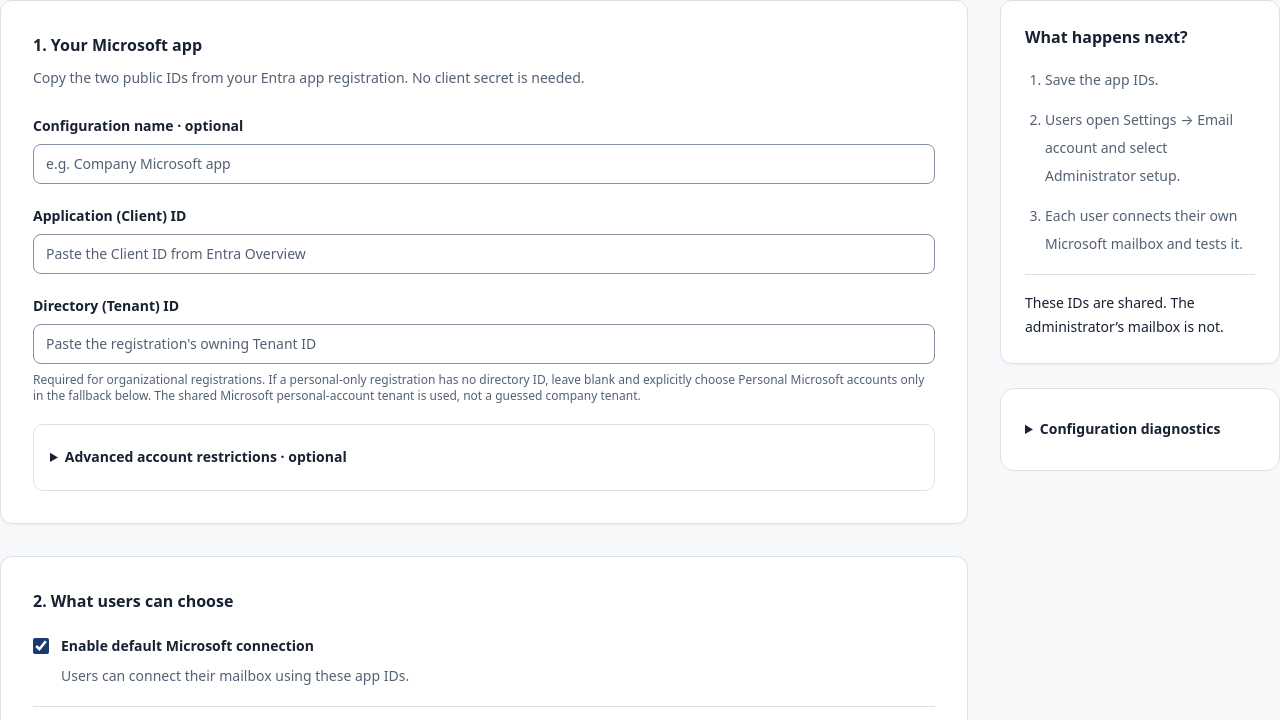
Test: user Microsoft configuration choices › lets the administrator save IDs with default enabled and no account-type override
Step 1. Type "22222222-2222-4222-8222-222222222222" into the field labelled "Application (Client) ID" → (484, 254), box [33,234,935,274]
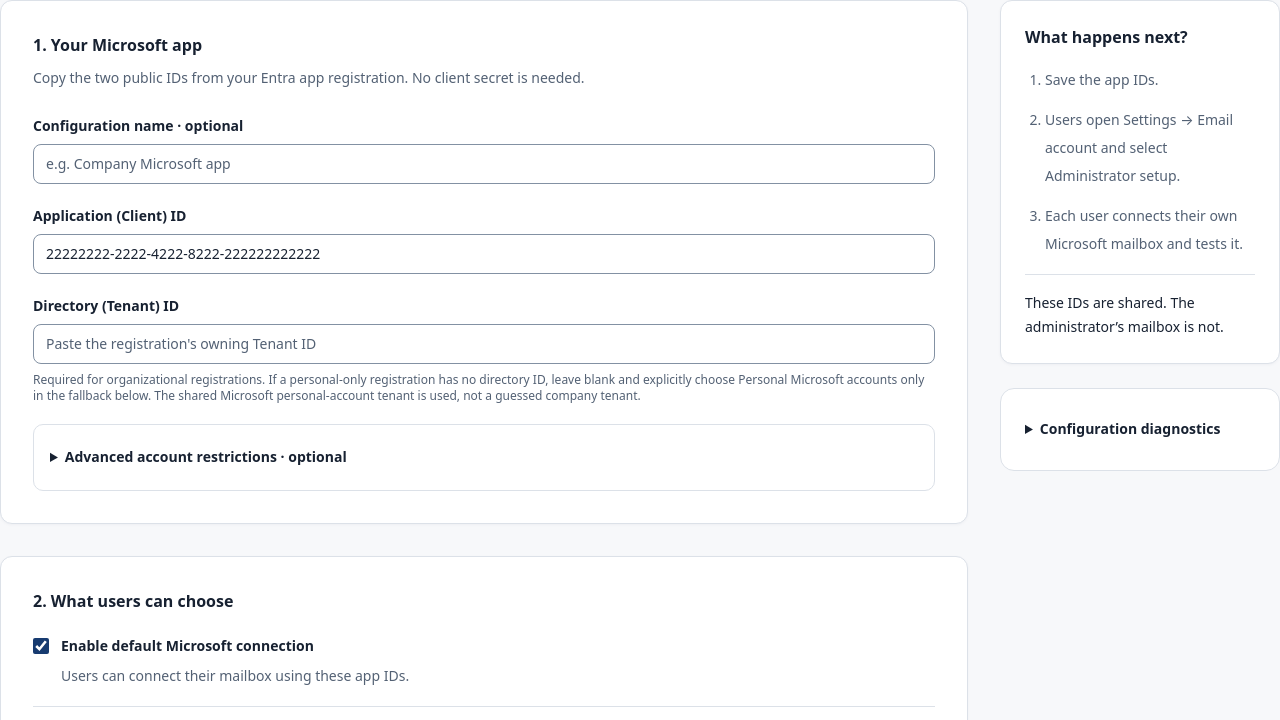
Step 2. Type "33333333-3333-4333-8333-333333333333" into the field labelled "Directory (Tenant) ID" → (484, 344), box [33,324,935,364]
(page scrolled)
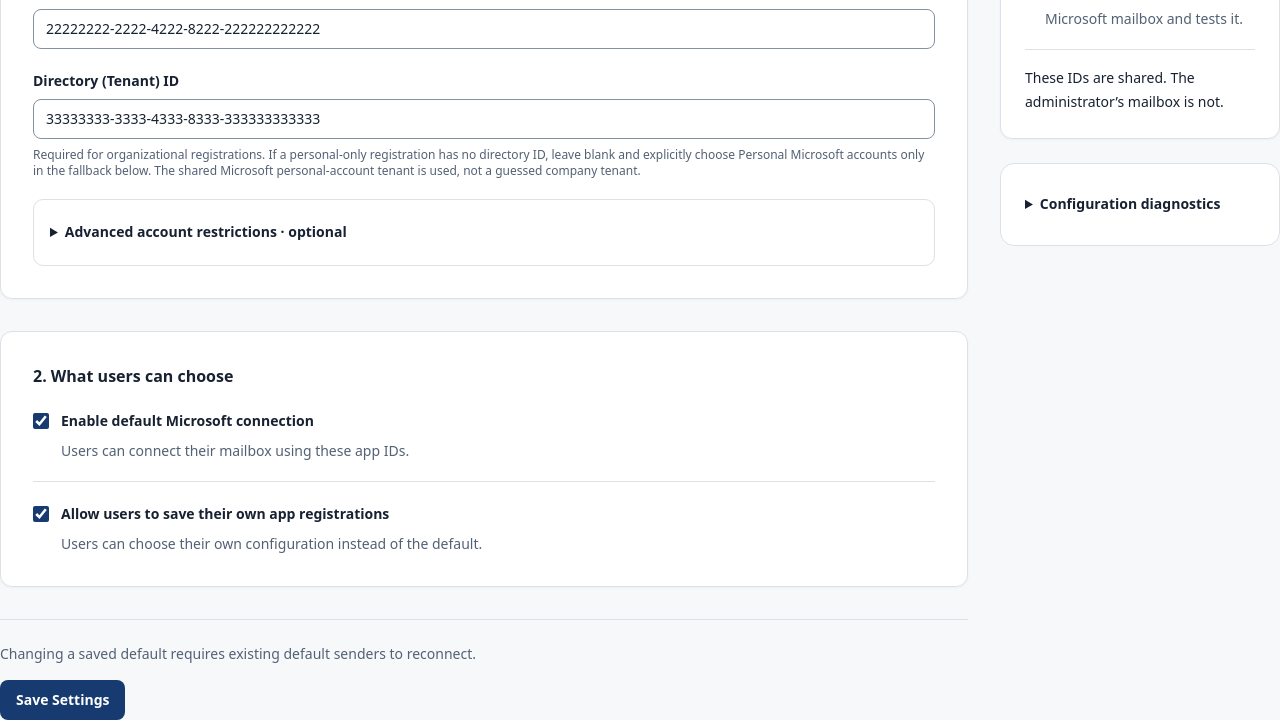
Expected: the checkbox labelled "Enable default Microsoft connection" is checked, [33,413,49,429]
Step 3. Click the button "Save Settings" → (63, 700), box [0,680,126,719]
(page scrolled)
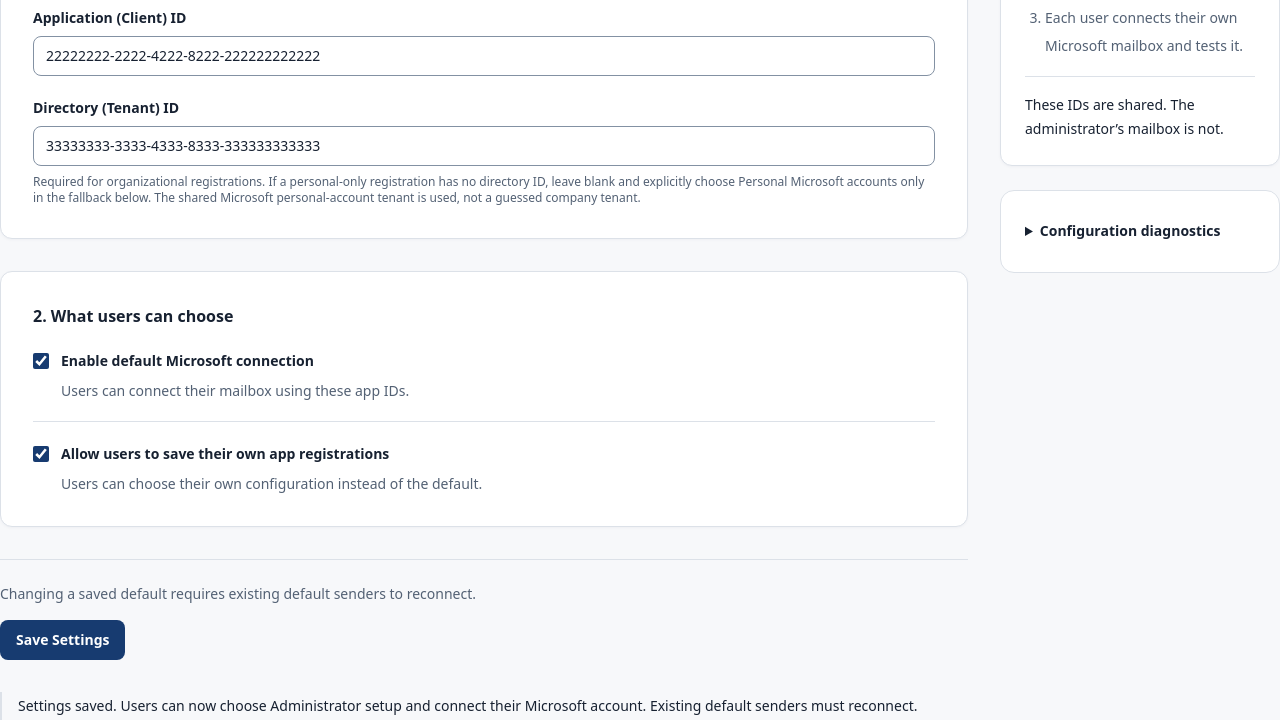
Expected: the text "Users can now choose Administrator setup" is shown, [18,696,918,715]
